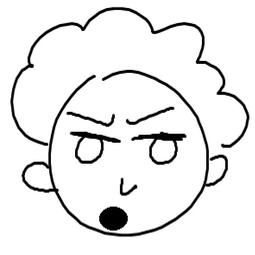ear: (15, 161, 57, 198), (199, 153, 232, 189)
empty_eye: (145, 131, 185, 168), (72, 131, 109, 165)
frowning_eyebrow: (124, 98, 176, 126), (66, 110, 117, 128)
nose: (117, 173, 141, 200)
open_mouth: (94, 206, 130, 231)
